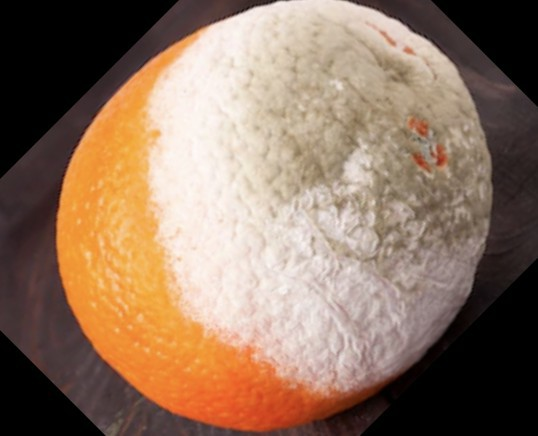rotten_orange: (56, 1, 483, 432)
